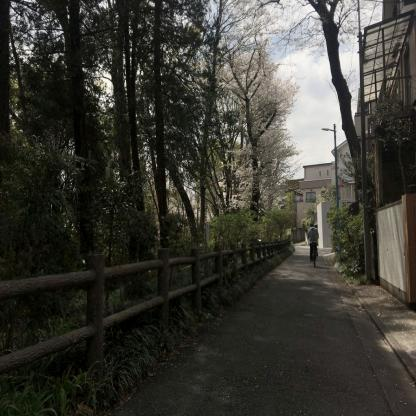Someiyoshino: (200, 31, 303, 224)
